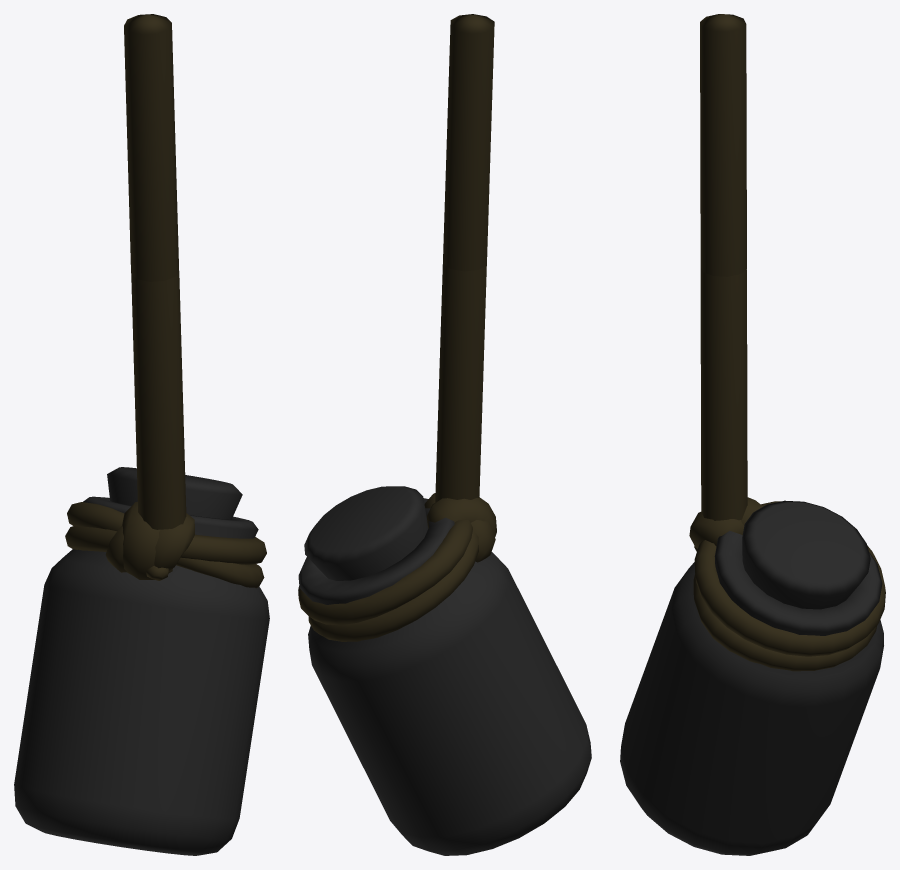
Rendered from Animation.fbx.
3 renders of one model, left to right at view 1: azimuth 30°, elevation 25°; view 2: azimuth 150°, elevation 25°; view 3: azimuth 270°, elevation 25°, orthographic. The views are drawn at different scales.
Parts seen in each view (by area): view 1: m_dlc5_glassjar, m_dlc5_rope_fence_01, m_dlc5_rope_fence_01 (1), m_dlc5_masonjar_rope, m_dlc5_masonjar_cork; view 2: m_dlc5_glassjar, m_dlc5_rope_fence_01, m_dlc5_masonjar_rope, m_dlc5_rope_fence_01 (1), m_dlc5_masonjar_cork; view 3: m_dlc5_glassjar, m_dlc5_rope_fence_01, m_dlc5_rope_fence_01 (1), m_dlc5_masonjar_cork, m_dlc5_masonjar_rope.
Boxes of the visible parts, x1,y1,x2,y2 form: m_dlc5_glassjar: (14,496,269,855); m_dlc5_rope_fence_01: (124,14,178,281); m_dlc5_rope_fence_01 (1): (131,271,186,529); m_dlc5_masonjar_rope: (65,501,266,588); m_dlc5_masonjar_cork: (107,467,242,519); m_dlc5_glassjar: (298,498,591,855); m_dlc5_rope_fence_01: (443,14,494,271); m_dlc5_masonjar_rope: (298,493,496,641); m_dlc5_rope_fence_01 (1): (435,264,486,502); m_dlc5_masonjar_cork: (304,486,428,580); m_dlc5_glassjar: (620,531,883,855); m_dlc5_rope_fence_01: (700,14,746,276); m_dlc5_rope_fence_01 (1): (700,267,747,520); m_dlc5_masonjar_cork: (742,500,870,609); m_dlc5_masonjar_rope: (689,497,885,671).
Size of the model in its own units: 0.7193 by 2.33 by 0.6826.
